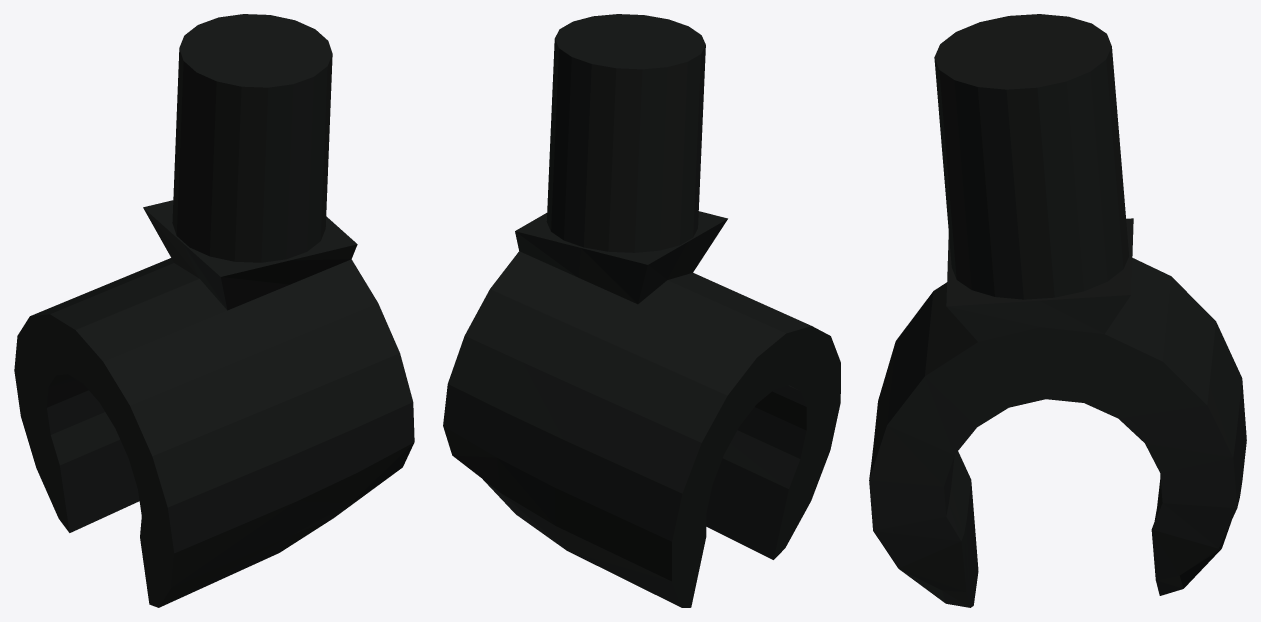
The model's file is LeoDart_right_hand.obj.
3 views of the same model, side by side, from view 1: azimuth 30°, elevation 25°; view 2: azimuth 150°, elevation 25°; view 3: azimuth 270°, elevation 25° (orthographic). The views are drawn at different scales.
Visible parts, largest first — view 1: hand_dx; view 2: hand_dx; view 3: hand_dx.
Part boxes in pixels (box(x1,y1,x2,y2)): hand_dx: box(14, 14, 414, 607); hand_dx: box(443, 14, 840, 607); hand_dx: box(869, 14, 1246, 607).
Bounding box in the file's own units: 0.4819 × 0.8874 × 0.5092.
1 material, 1 textured.
